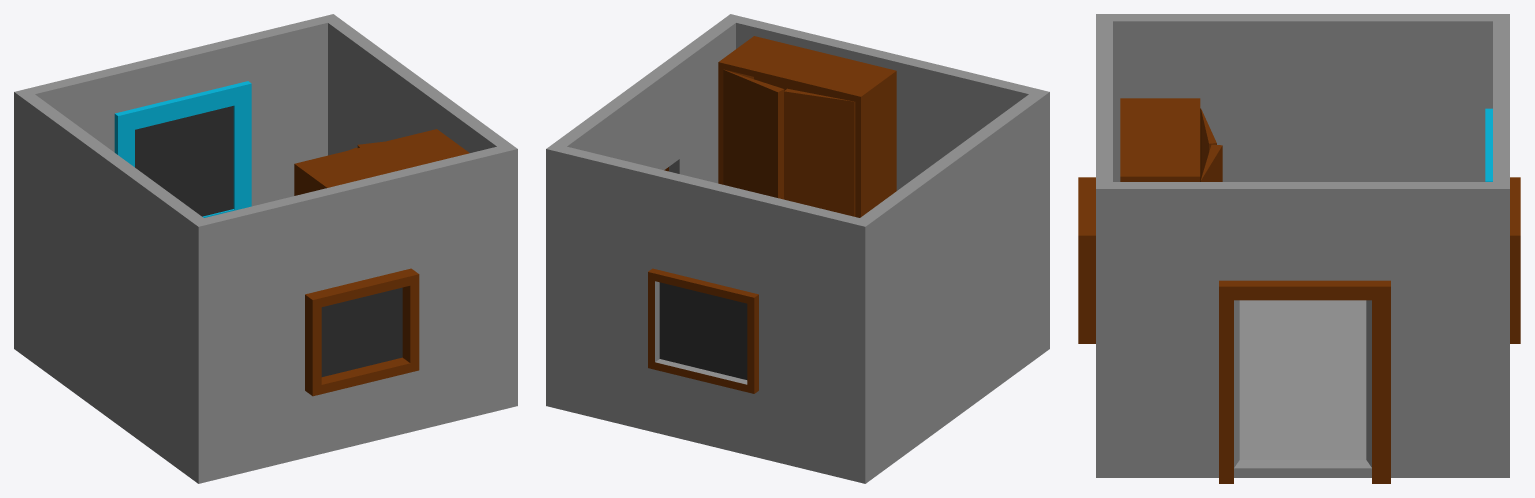
The model's file is BasicHouse.fbx.
The picture shows the model from 3 angles, left to right: view 1: azimuth 30°, elevation 25°; view 2: azimuth 150°, elevation 25°; view 3: azimuth 270°, elevation 25°; orthographic projection. The views are drawn at different scales.
Visible parts, largest first — view 1: Cube; view 2: Cube; view 3: Cube.
Boxes of the visible parts, x1=… form: Cube: x1=14, y1=14, x2=517, y2=483; Cube: x1=546, y1=14, x2=1049, y2=483; Cube: x1=1078, y1=14, x2=1520, y2=483.
Size of the model in its own units: 283 by 210 by 292.
